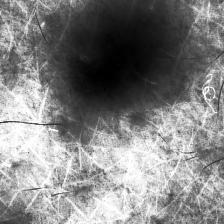Benign Marking or Mole: (73, 17, 174, 102)
